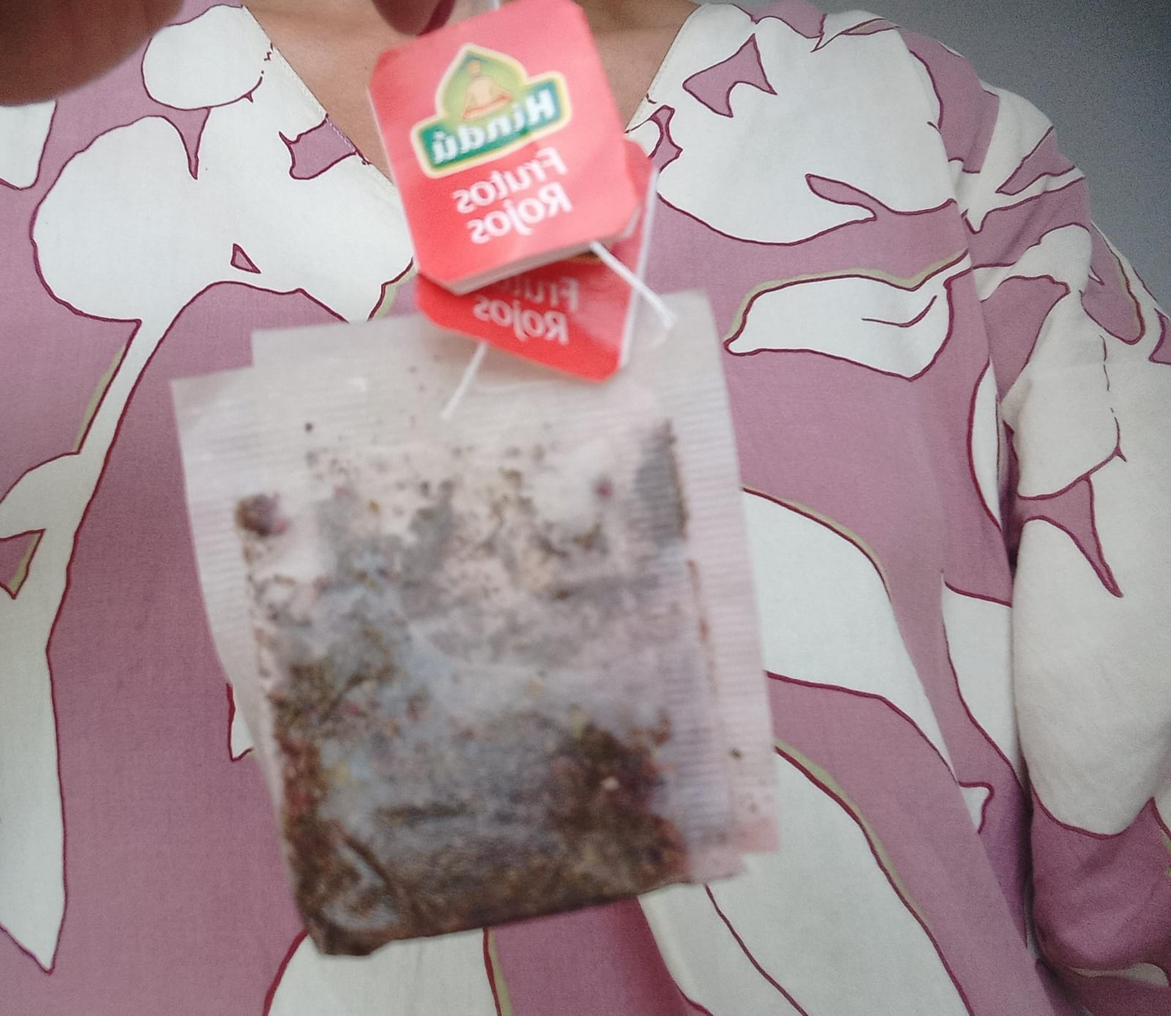Ordinario: (169, 289, 783, 959)
